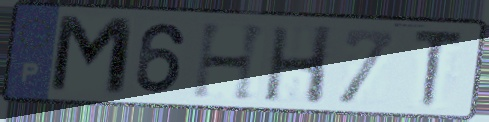6: (133, 20, 188, 97)
7: (341, 27, 398, 107)
H: (188, 21, 272, 104), (260, 24, 337, 108)
M: (46, 12, 138, 100)
T: (410, 26, 467, 111)
